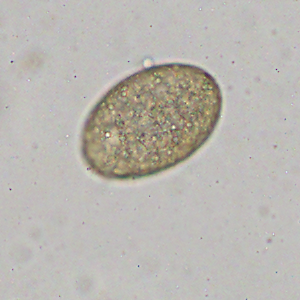Fasciola_hepatica_egg: (76, 59, 225, 182)
